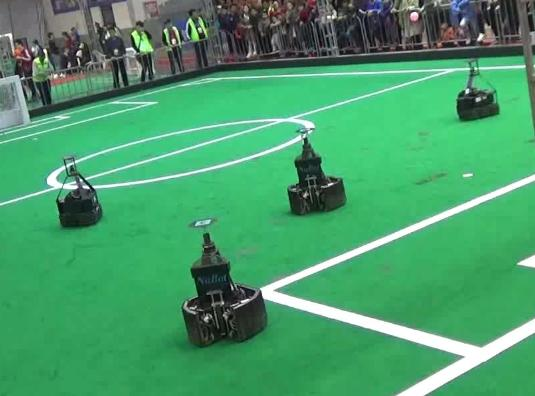robot: (178, 215, 272, 348), (282, 126, 351, 218), (47, 153, 112, 232), (452, 58, 502, 123)
